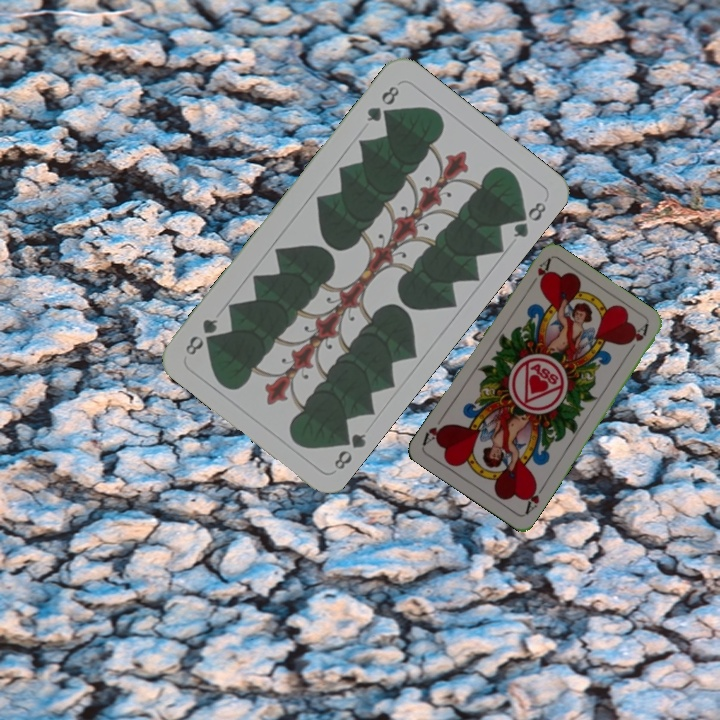G8: (330, 426, 369, 473), (362, 81, 402, 125)
HA: (524, 255, 553, 292), (521, 480, 548, 517)
